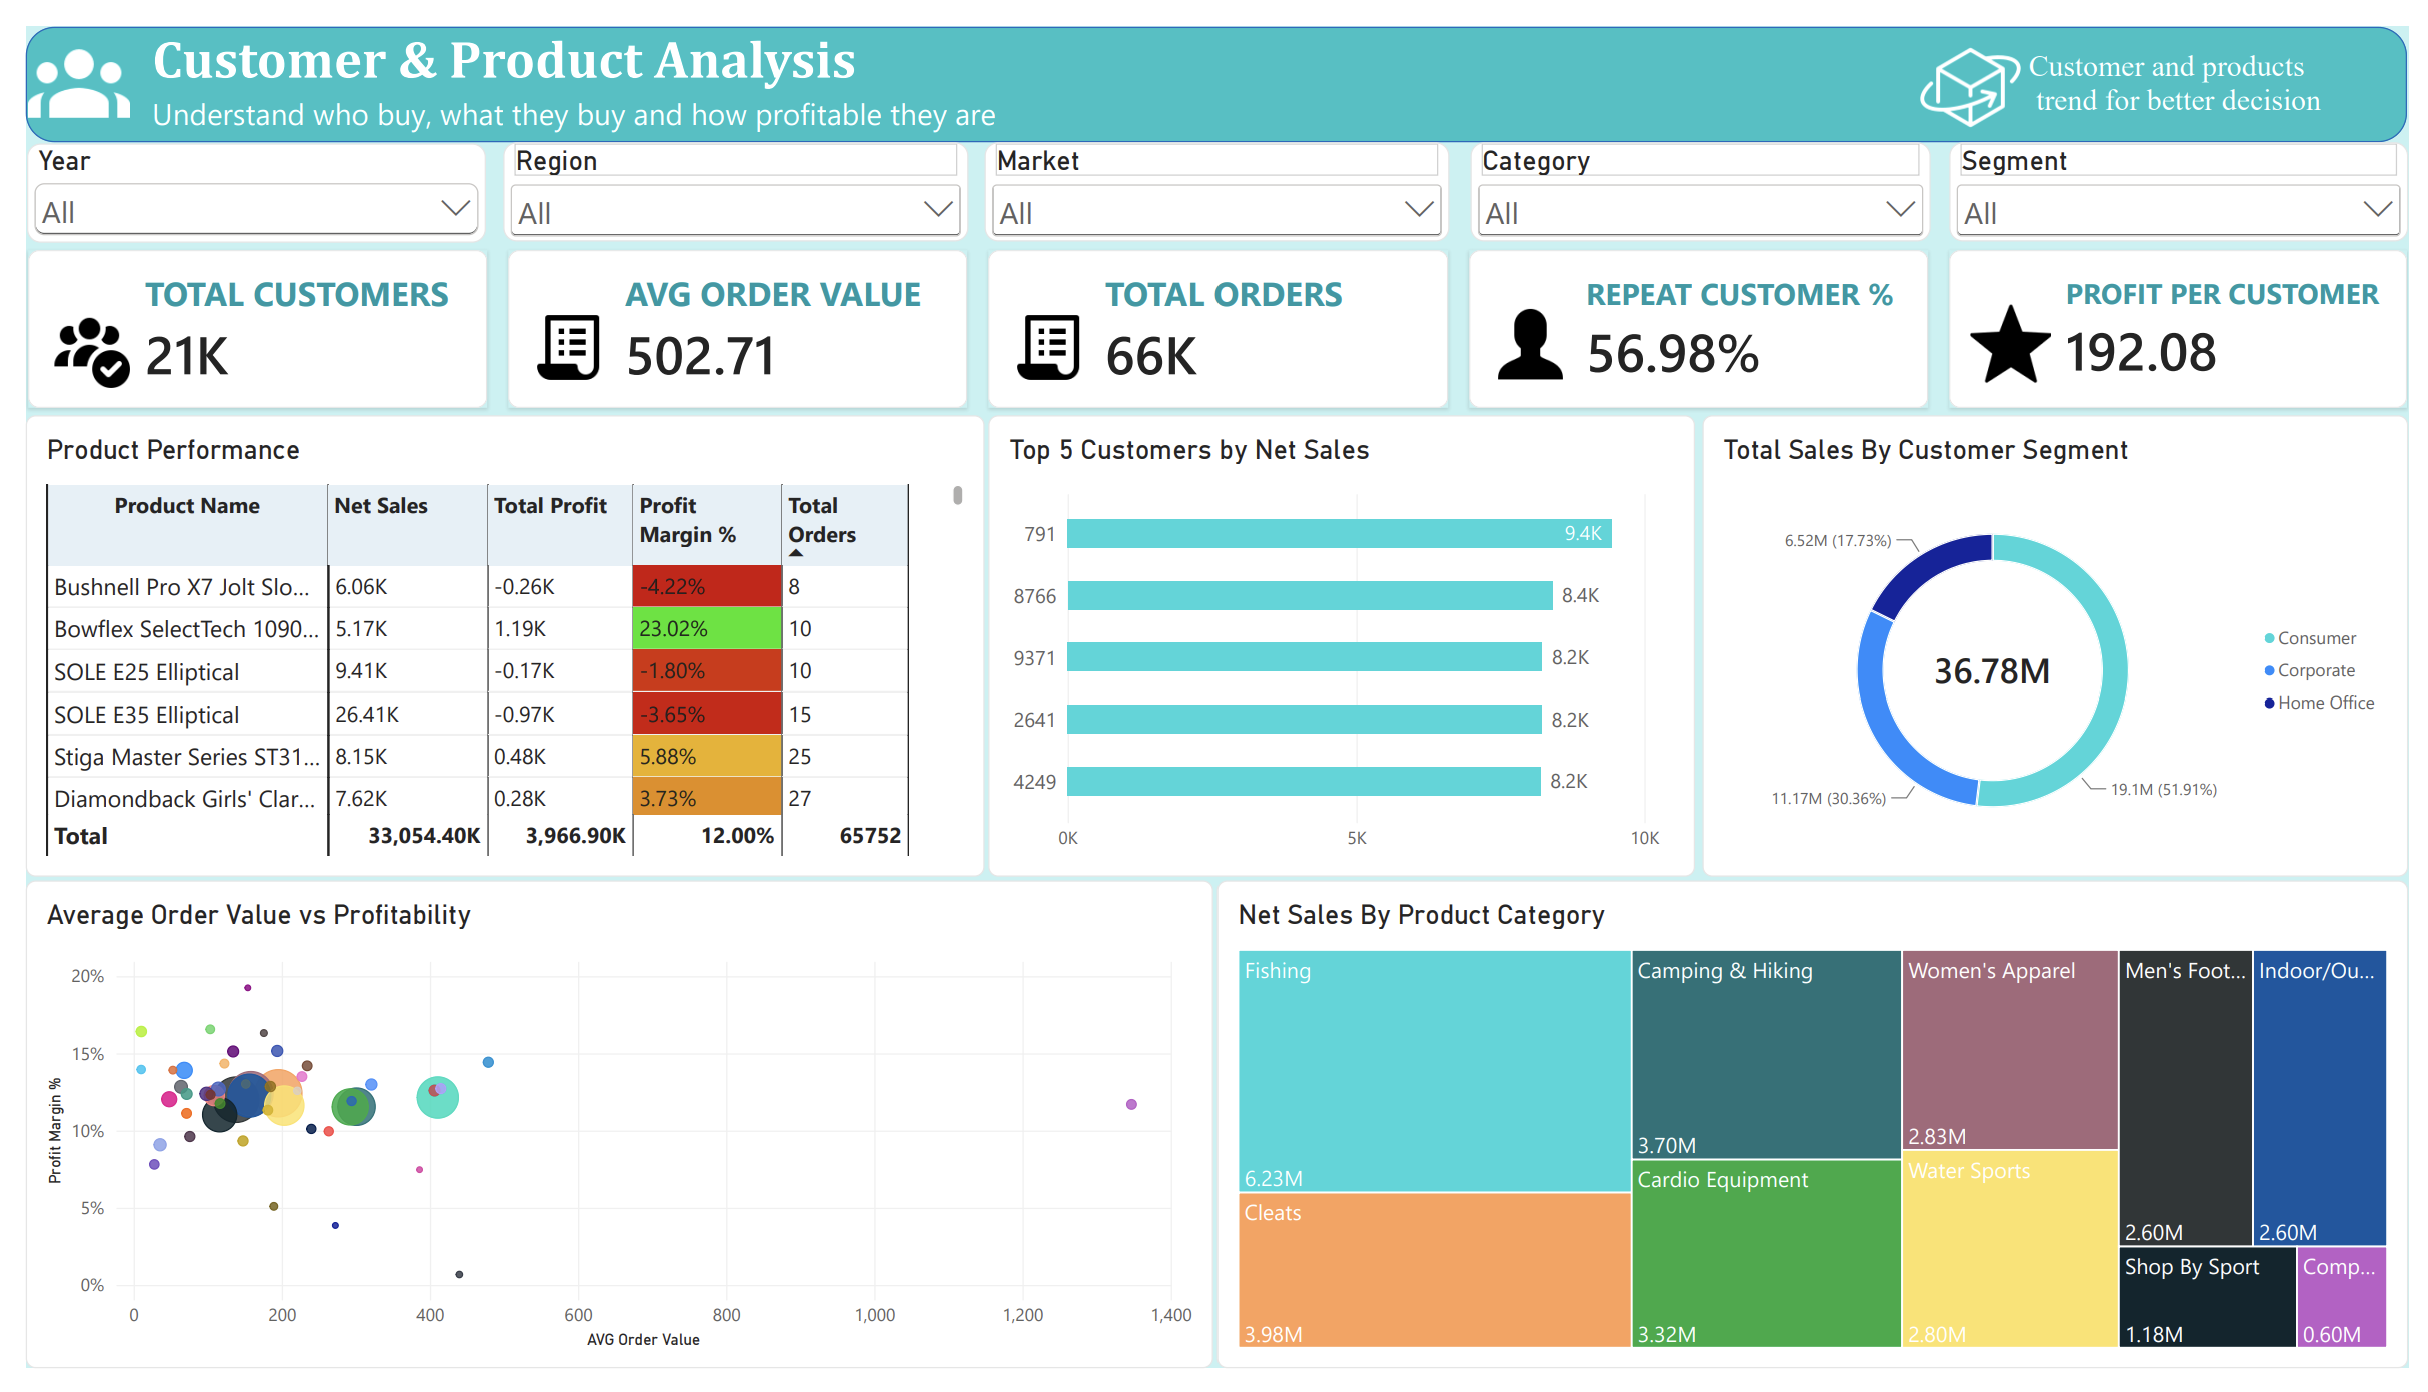

This screenshot's page, from the dashboard's own definition file:
{"tool":"powerbi","page":{"name":"Customer & Product","canvas":[1920,1080],"ordinal":2},"visuals":[{"type":"shape","box":[0,0,1919.3,93],"z":0},{"type":"image","box":[1527,6.8,80.2,83.6],"z":0,"group":"g1"},{"type":"textbox","title":"Customer & Product Analysis","box":[102.4,0,694,112],"z":1000},{"type":"textbox","box":[1614,18.7,273,73.4],"z":1000,"group":"g1"},{"type":"slicer","fields":{"Values":["dim_date.year_number"]},"box":[1.2,93.5,370.2,80],"z":2000},{"type":"slicer","fields":{"Values":["dim_order_locations.region"]},"box":[385.5,92.7,374.5,80],"z":3000},{"type":"slicer","fields":{"Values":["dim_order_locations.market"]},"box":[772.8,92.8,374.4,80],"z":4000},{"type":"slicer","fields":{"Values":["dim_products.category_name"]},"box":[1163.6,92.7,370.9,80],"z":5000},{"type":"slicer","fields":{"Values":["dim_customers.segment"]},"box":[1550,92.9,370,80],"z":6000},{"type":"treemap","title":"Net Sales By Product Category","fields":{"Values":["_Measures.Net Sales"],"Group":["dim_products.category_name"]},"box":[960,687.3,960,392.7],"z":7000},{"type":"barChart","title":"Top 5 Customers by Net Sales","fields":{"Y":["_Measures.Net Sales"],"Category":["dim_customers.customer_id"]},"box":[776.4,312.7,569.1,370.9],"z":8000},{"type":"donutChart","title":"Total Sales By Customer Segment","fields":{"Category":["dim_customers.segment"],"Y":["_Measures.Total Sales"]},"box":[1350.9,312.7,569.1,370.9],"z":9000},{"type":"cardVisual","fields":{"Data":["_Measures.Total Customers"]},"box":[1.7,180,370,126.7],"z":10000},{"type":"cardVisual","fields":{"Data":["_Measures.AVG Order Value"]},"box":[388.7,180,370,126.7],"z":11000},{"type":"cardVisual","fields":{"Data":["_Measures.Total Orders"]},"box":[775.8,180,370,126.7],"z":12000},{"type":"pivotTable","title":"Product Performance","fields":{"Rows":["dim_products.product_name"],"Values":["_Measures.Net Sales","_Measures.Total Profit","_Measures.Profit Margin %","_Measures.Total Orders"]},"box":[0,312.7,772.7,370.9],"z":13000},{"type":"scatterChart","title":"Average Order Value vs Profitability","fields":{"X":["_Measures.AVG Order Value"],"Y":["_Measures.Profit Margin %"],"Series":["dim_products.category_name"],"Size":["_Measures.Total Orders"]},"box":[0,687.3,957,392.7],"z":14000},{"type":"cardVisual","fields":{"Data":["_Measures.Repeat Customer %"]},"box":[1162.9,180,370,126.7],"z":15000},{"type":"cardVisual","fields":{"Data":["_Measures.Profit per Customer"]},"box":[1550,180,369.3,127.1],"z":16000},{"type":"image","box":[1.7,0,81.9,92.1],"z":17000},{"type":"group","id":"g1","title":"Group 1","box":[1527,6.8,360,85.3],"z":18000}]}

Visuals, with their boxes in screenshot pixels (x1, y1, x2, y2), scaled from the page's 1920x1080 canvas onto the 2428x1392 screenshot:
shape: [x1=0, y1=0, x2=2427, y2=120]
image: [x1=1931, y1=9, x2=2032, y2=117]
"Customer & Product Analysis" textbox: [x1=129, y1=0, x2=1007, y2=144]
textbox: [x1=2041, y1=24, x2=2386, y2=119]
slicer - dim_date.year_number: [x1=2, y1=121, x2=470, y2=224]
slicer - dim_order_locations.region: [x1=487, y1=119, x2=961, y2=223]
slicer - dim_order_locations.market: [x1=977, y1=120, x2=1451, y2=223]
slicer - dim_products.category_name: [x1=1471, y1=119, x2=1941, y2=223]
slicer - dim_customers.segment: [x1=1960, y1=120, x2=2427, y2=223]
"Net Sales By Product Category" treemap: [x1=1214, y1=886, x2=2427, y2=1391]
"Top 5 Customers by Net Sales" barChart: [x1=982, y1=403, x2=1701, y2=881]
"Total Sales By Customer Segment" donutChart: [x1=1708, y1=403, x2=2427, y2=881]
cardVisual - _Measures.Total Customers: [x1=2, y1=232, x2=470, y2=395]
cardVisual - _Measures.AVG Order Value: [x1=492, y1=232, x2=959, y2=395]
cardVisual - _Measures.Total Orders: [x1=981, y1=232, x2=1449, y2=395]
"Product Performance" pivotTable: [x1=0, y1=403, x2=977, y2=881]
"Average Order Value vs Profitability" scatterChart: [x1=0, y1=886, x2=1210, y2=1391]
cardVisual - _Measures.Repeat Customer %: [x1=1471, y1=232, x2=1938, y2=395]
cardVisual - _Measures.Profit per Customer: [x1=1960, y1=232, x2=2427, y2=396]
image: [x1=2, y1=0, x2=106, y2=119]
"Group 1" group: [x1=1931, y1=9, x2=2386, y2=119]
